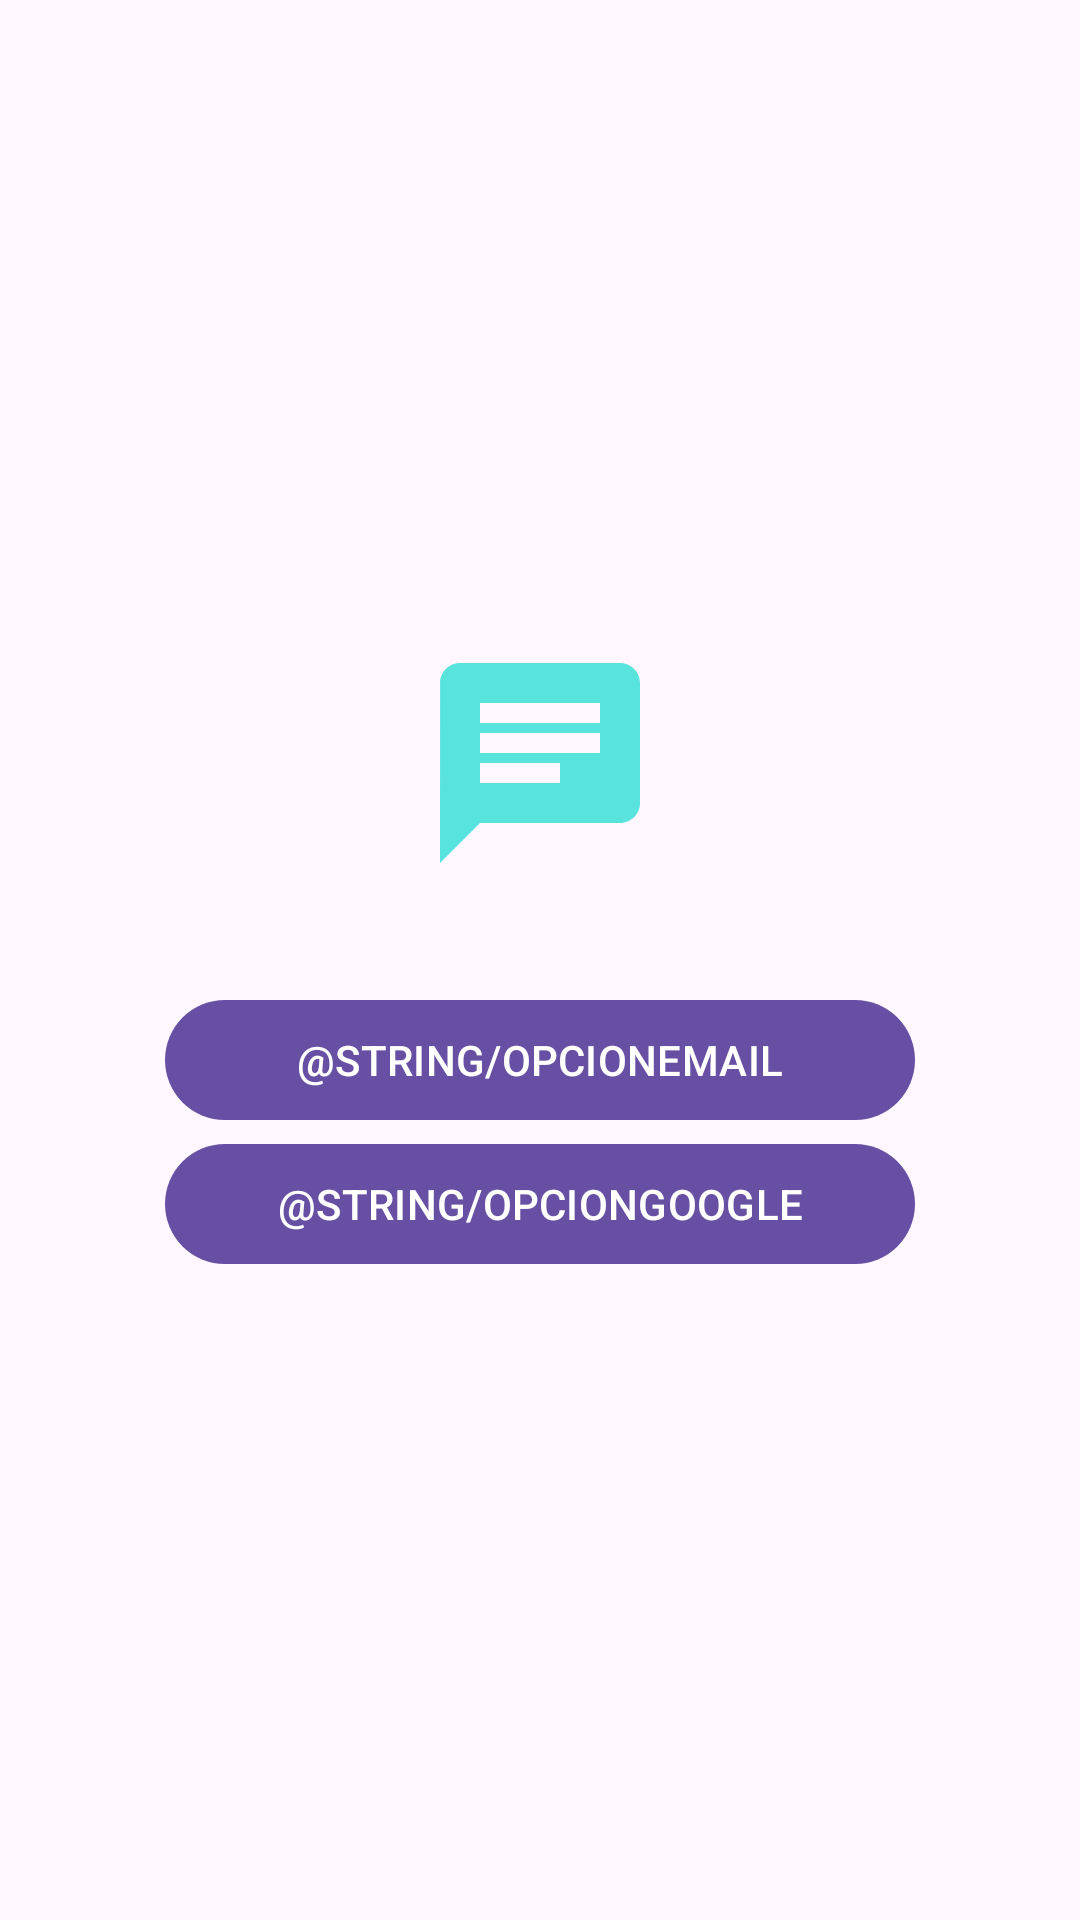

Screen size 1080x1920. Icon name, then its center in pixels as [x,y]:
chats: [540,763]
